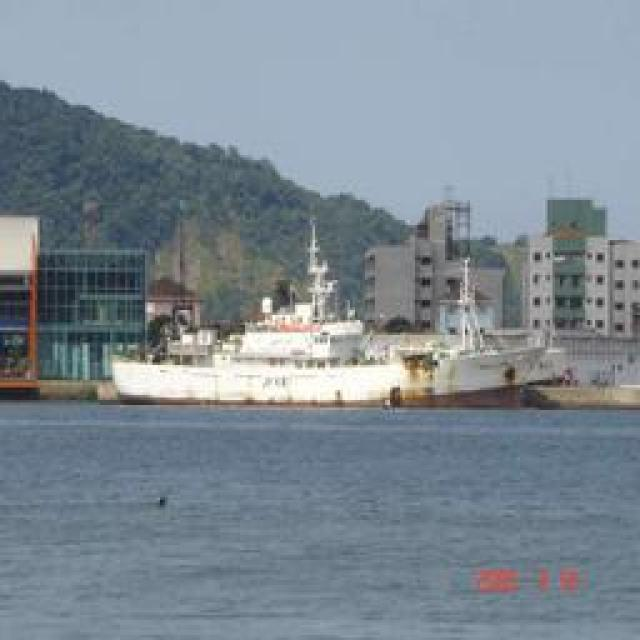CIV_Ship: (105, 324, 565, 408)
